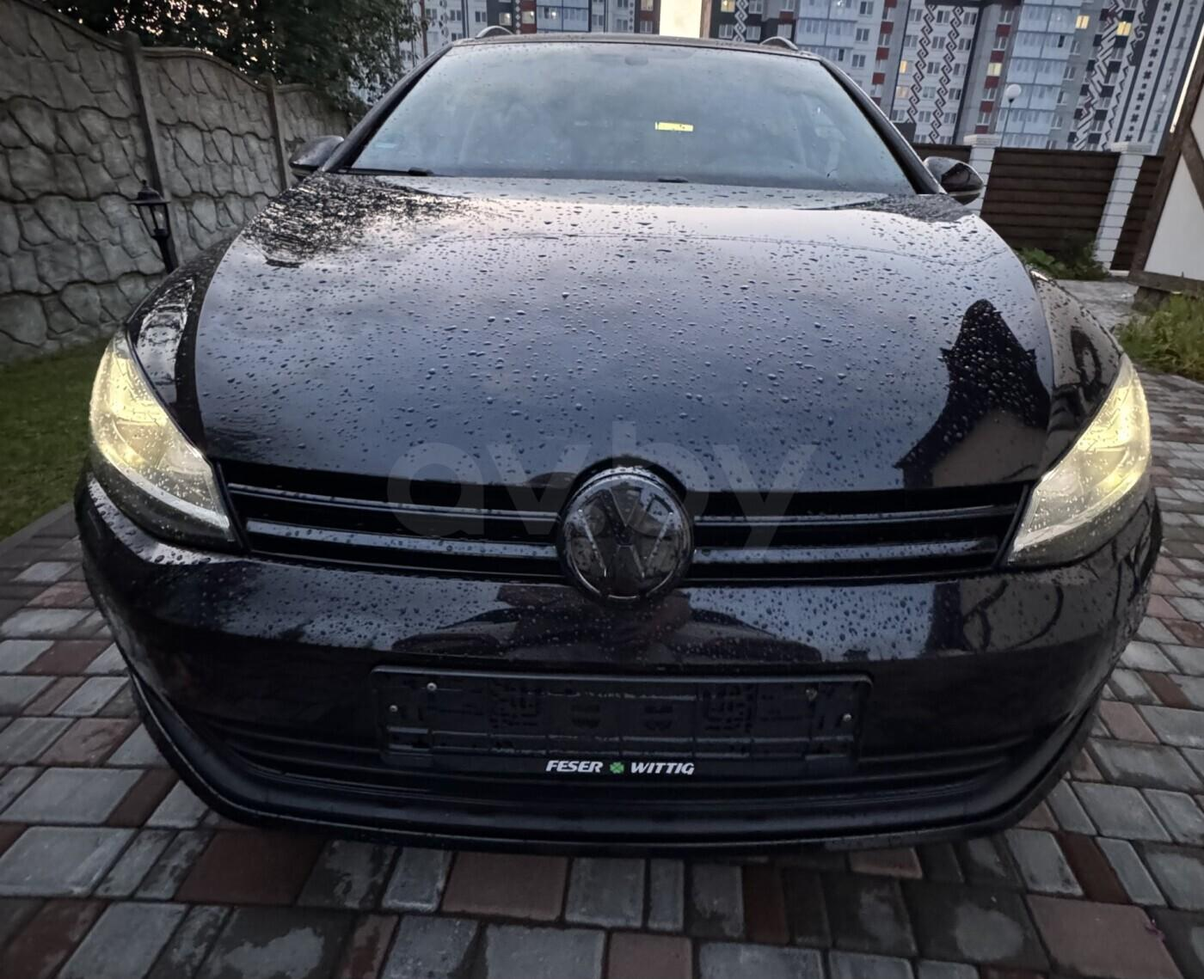Golf_2012-2017: (79, 24, 1158, 845)
